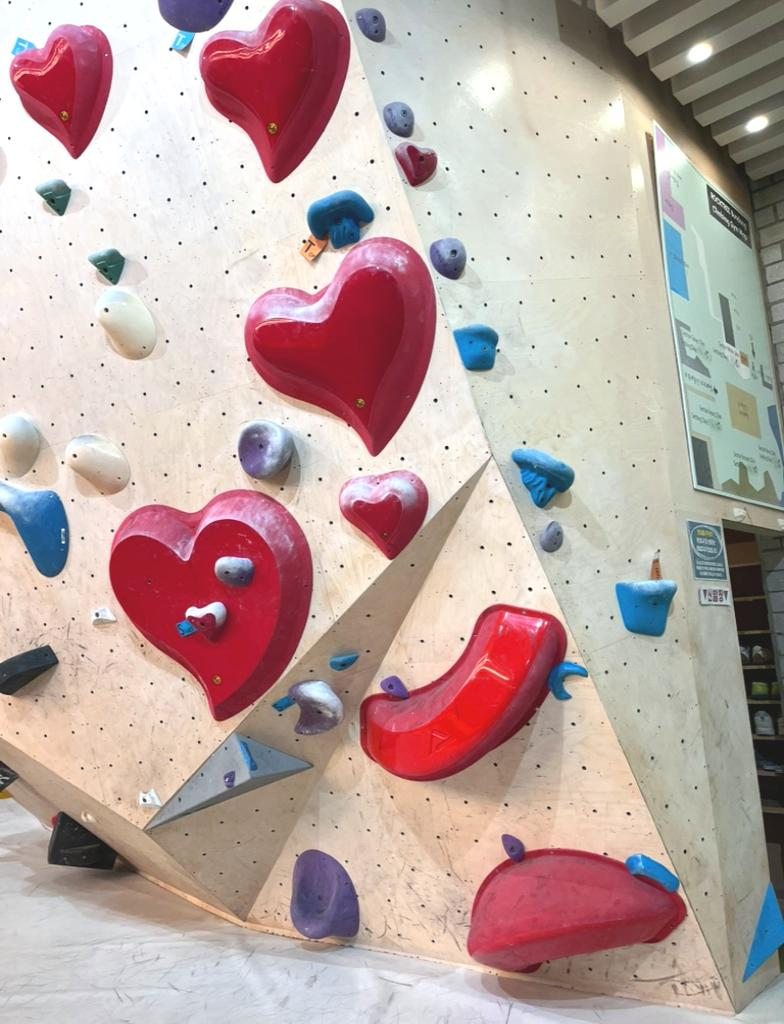downhold: (89, 248, 124, 284), (36, 179, 70, 215)
jug: (308, 190, 373, 248), (511, 448, 574, 507), (616, 580, 676, 635), (239, 420, 293, 478), (288, 681, 342, 732), (454, 324, 497, 368), (430, 238, 466, 278)
ledge: (360, 604, 572, 780)
sloper: (110, 490, 311, 720), (246, 237, 435, 454), (200, 0, 349, 179), (10, 25, 112, 158), (339, 471, 426, 559)
tape: (300, 235, 327, 261), (172, 31, 194, 51), (11, 37, 35, 55), (272, 696, 294, 711)
volume: (146, 734, 311, 830)
